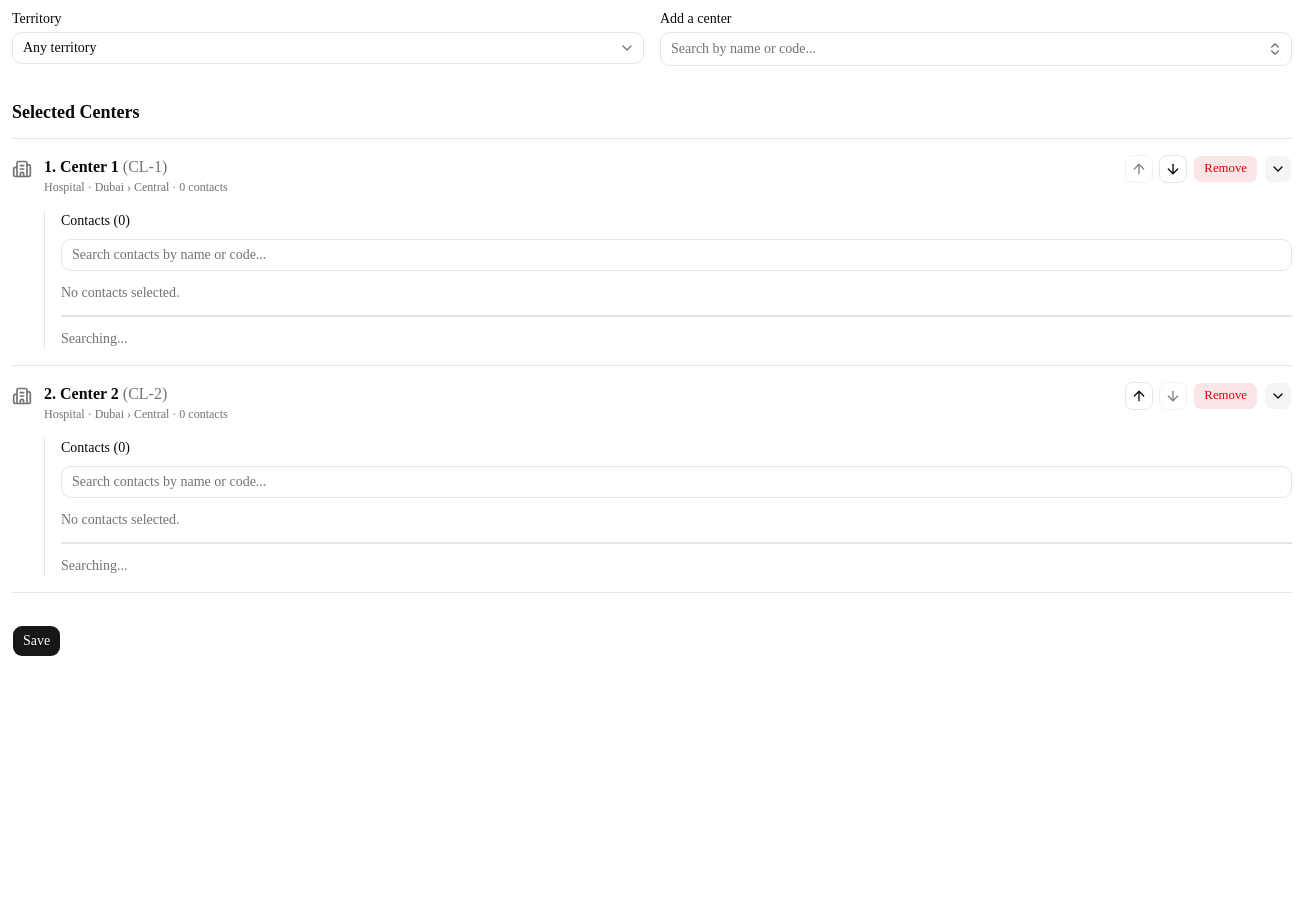
Test: route editor — centers › removes a center
Click the button "Remove" in the row of "CL-1": (1226,169) x1=1193 y1=155 x2=1258 y2=183
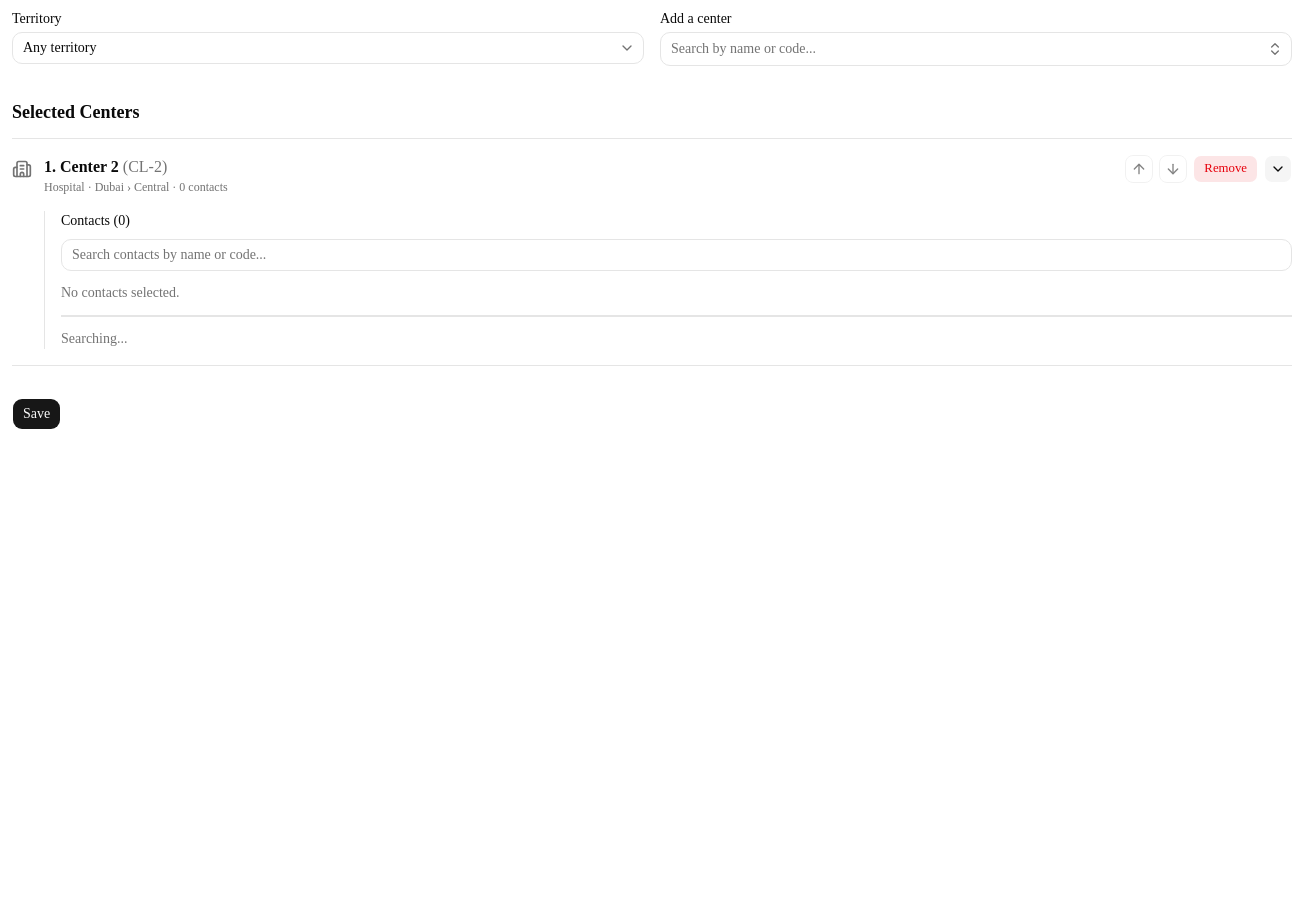
Expected: the text "Center 1" is gone
Expected: the text "1. Center 2 (CL-2)" is shown, x1=44 y1=158 x2=167 y2=175
